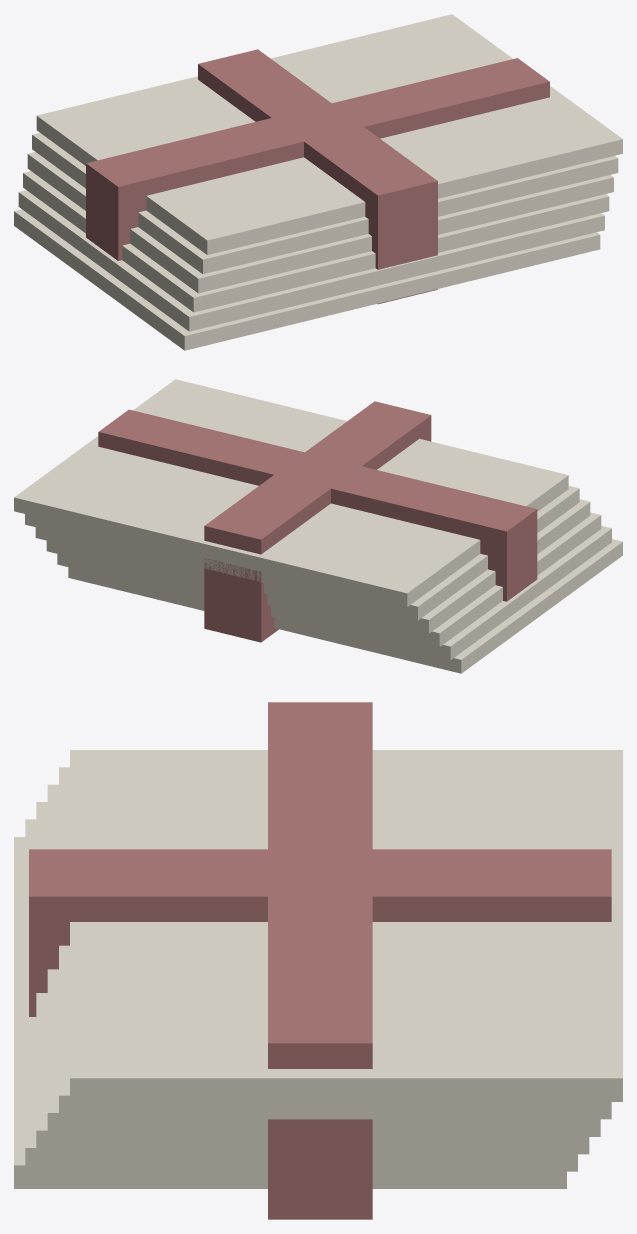
File: c2_letter_bundle.glb
3 views of the same model, one above another, from view 1: azimuth 30°, elevation 25°; view 2: azimuth 150°, elevation 25°; view 3: azimuth 270°, elevation 25° (orthographic). The views are drawn at different scales.
Visible parts, largest first — view 1: c2_letter_bundle; view 2: c2_letter_bundle; view 3: c2_letter_bundle.
Part boxes in pixels (x1,y1,x2,y2): c2_letter_bundle: [14, 14, 622, 350]; c2_letter_bundle: [14, 379, 622, 673]; c2_letter_bundle: [14, 702, 622, 1219].
Bounding box in the file's own units: 0.228 × 0.052 × 0.163.
